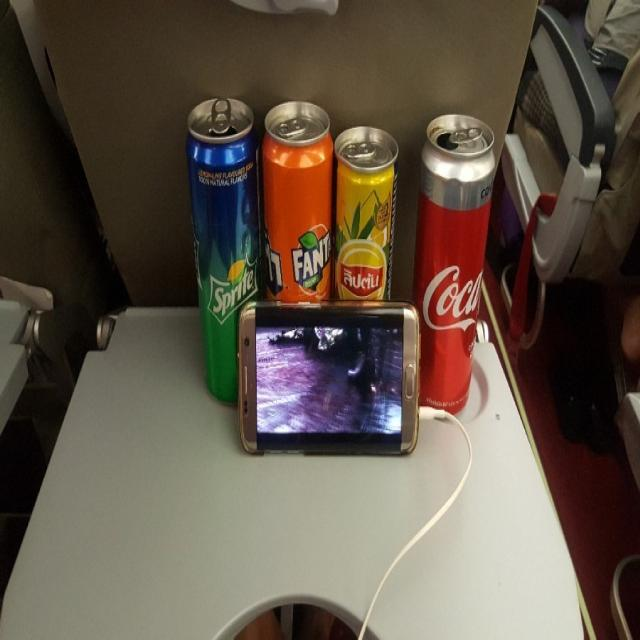Cans: (175, 80, 259, 402), (416, 104, 498, 432), (266, 86, 334, 311), (334, 112, 401, 308)
